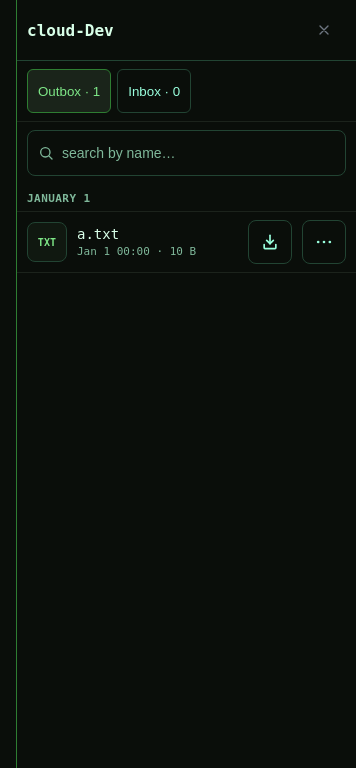
FilesPanel error messages (R27 #7) › shows the server error cause on a failed download instead of a generic message
Expected: the text "a.txt" is shown, [77,226,119,242]
What coordinates should you click on to do the following:
click the button titled "download file"
I would click on:
 (270, 242)
Its box is [248,220,292,264].
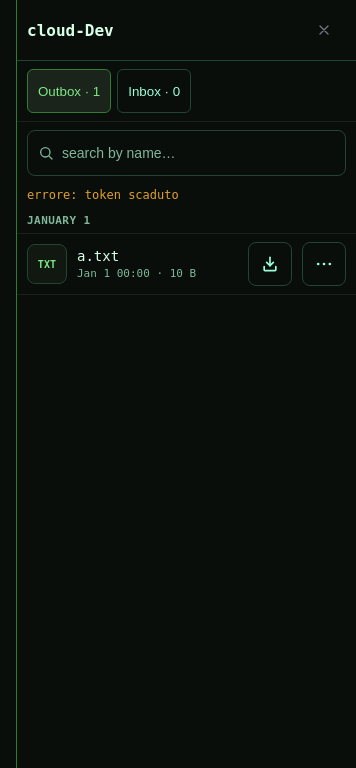
Expected: the text "errore: token scaduto" is shown, [27,188,179,202]
